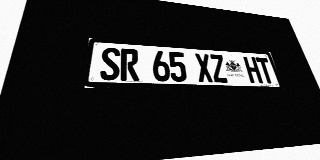5: (168, 51, 188, 82)
6: (152, 50, 171, 82)
H: (243, 56, 263, 83)
R: (120, 48, 139, 81)
S: (100, 47, 120, 81)
T: (255, 57, 276, 84)
X: (194, 53, 214, 82)
Z: (209, 54, 229, 83)
